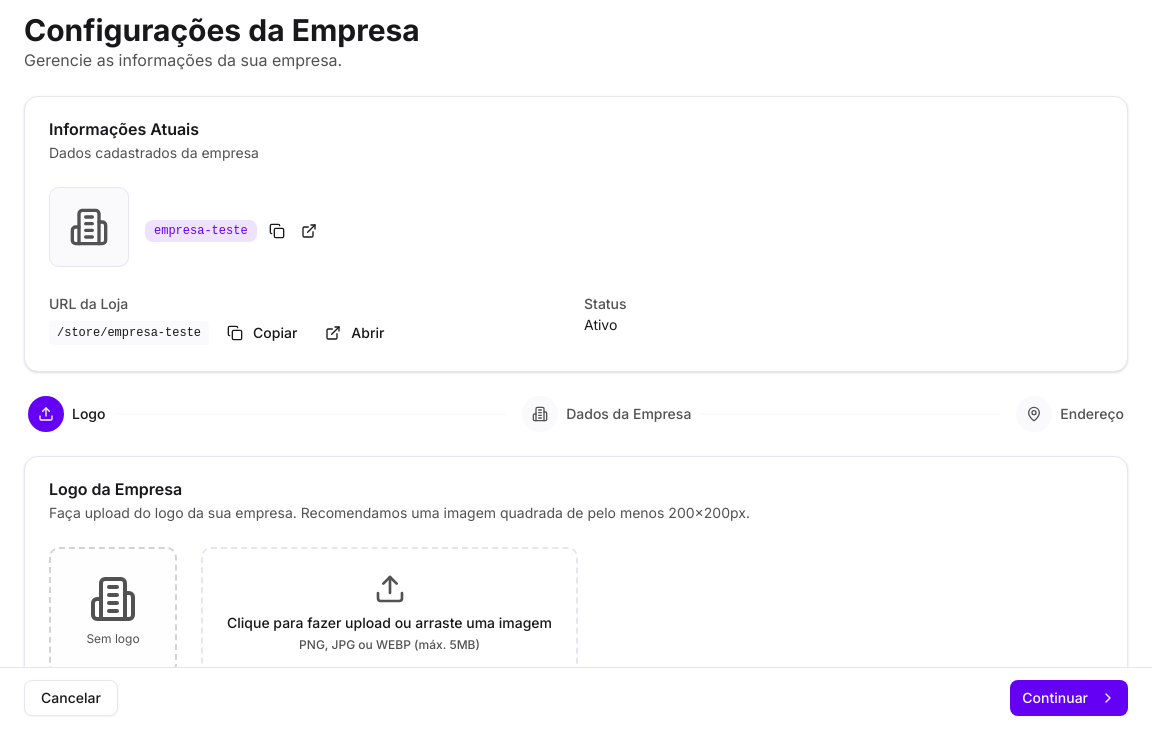
it: CompanySettings - wizard de passos › does not advance when backend rejects step 2 (duplicate email)
This screenshot has width=1152, height=732.
Expected: the text "Logo da Empresa" is shown, x1=49 y1=479 x2=182 y2=499
Click the button "Continuar": (1069, 698) x1=1010 y1=680 x2=1128 y2=716
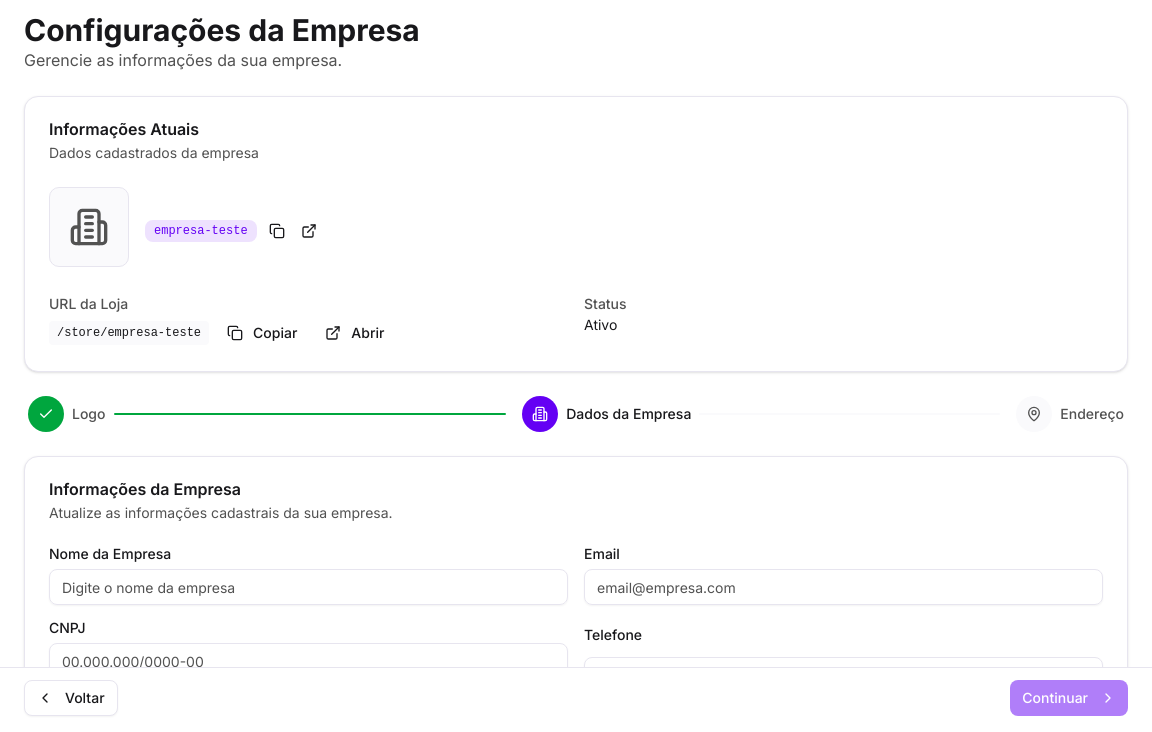
In the field labelled "Nome da Empresa": (308, 587) x1=49 y1=569 x2=568 y2=605, type "Empresa Nova"
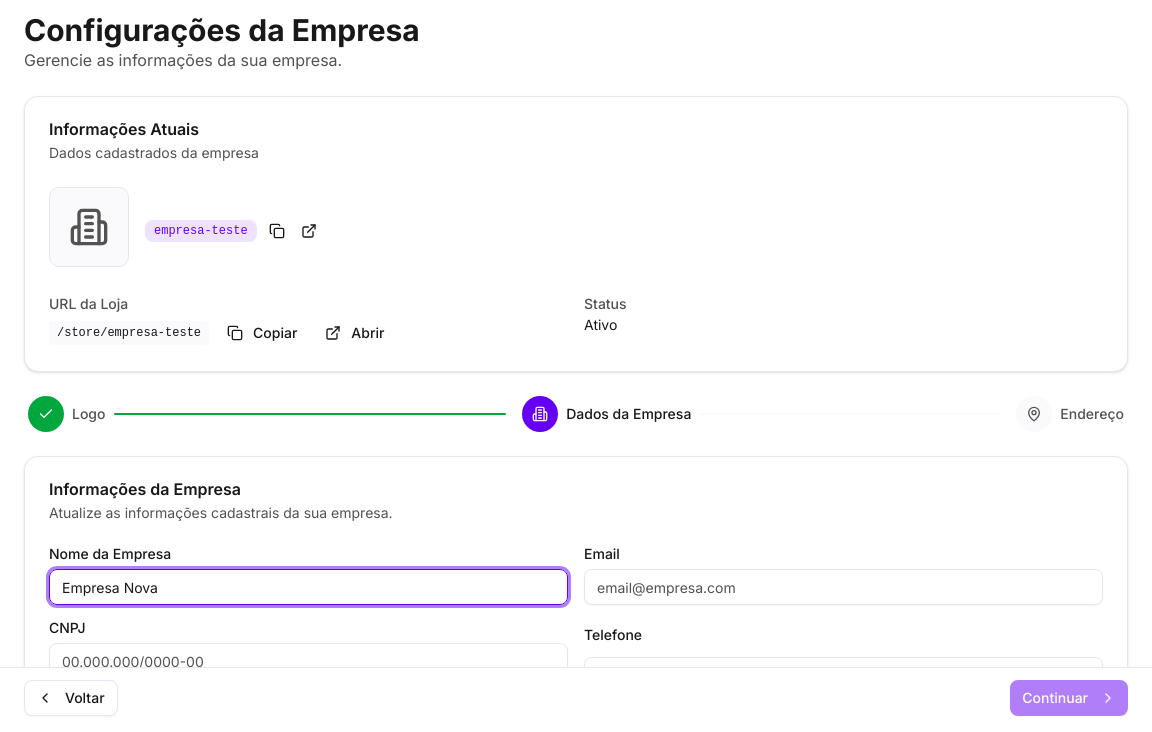
In the field labelled "Email": (844, 587) x1=584 y1=569 x2=1103 y2=605, type "ocupado@empresa.com"
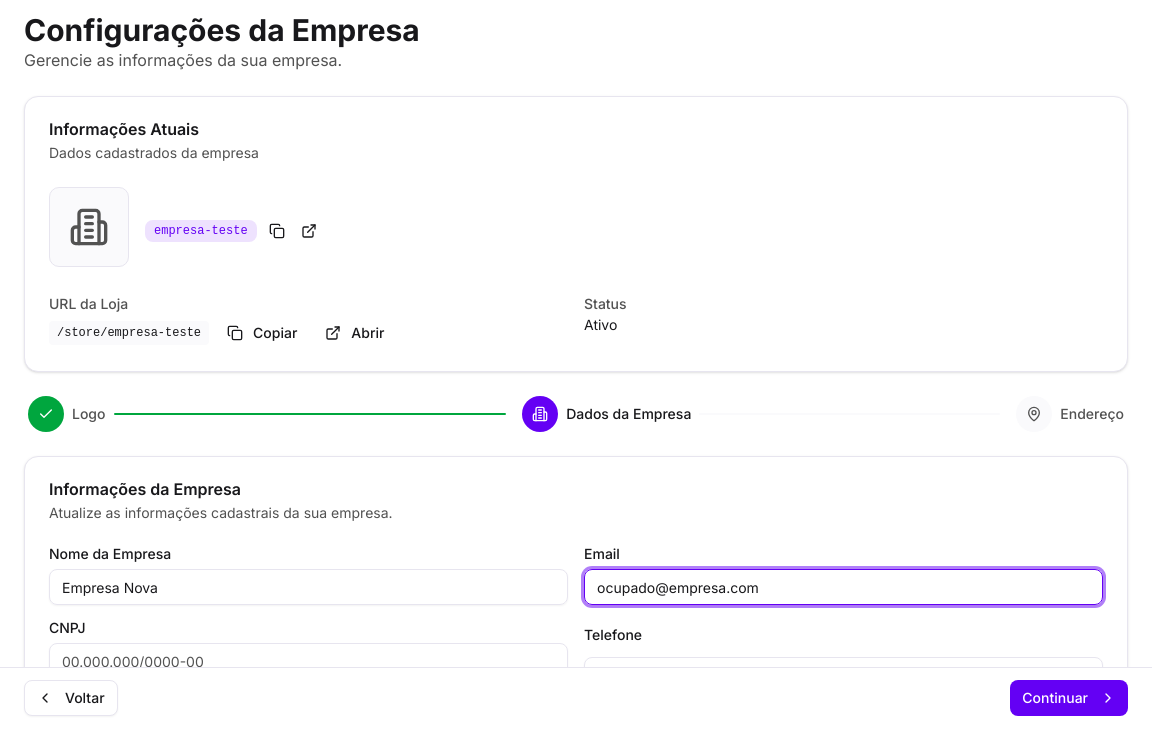
Click the button "Continuar": (1069, 698) x1=1010 y1=680 x2=1128 y2=716
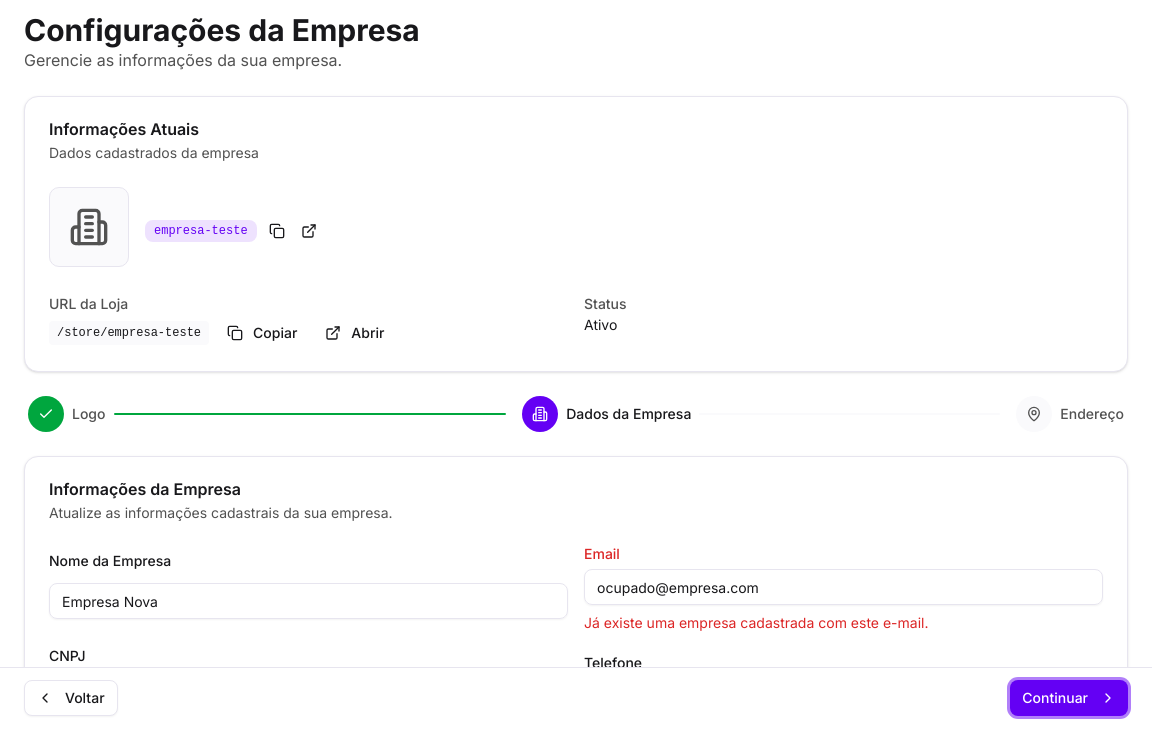
Expected: the text "Já existe uma empresa cadastrada com este e-mail." is shown, x1=584 y1=614 x2=928 y2=631
